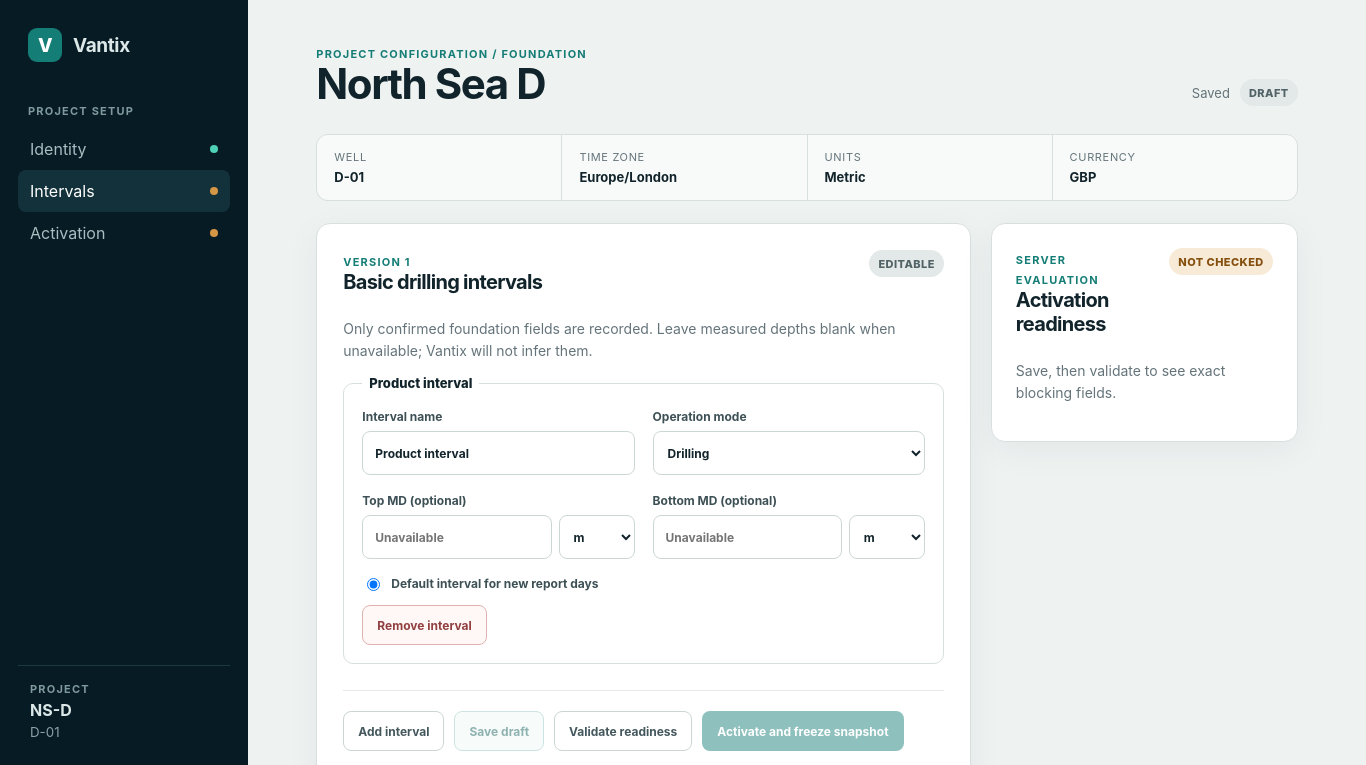
it: project configuration workspace › VTX-PRO-001 clears readiness and blocks activation for an unsaved product edit
The image size is (1366, 765).
Click the button "Validate readiness" at (623, 732), box [554,712,692,752]
(page scrolled)
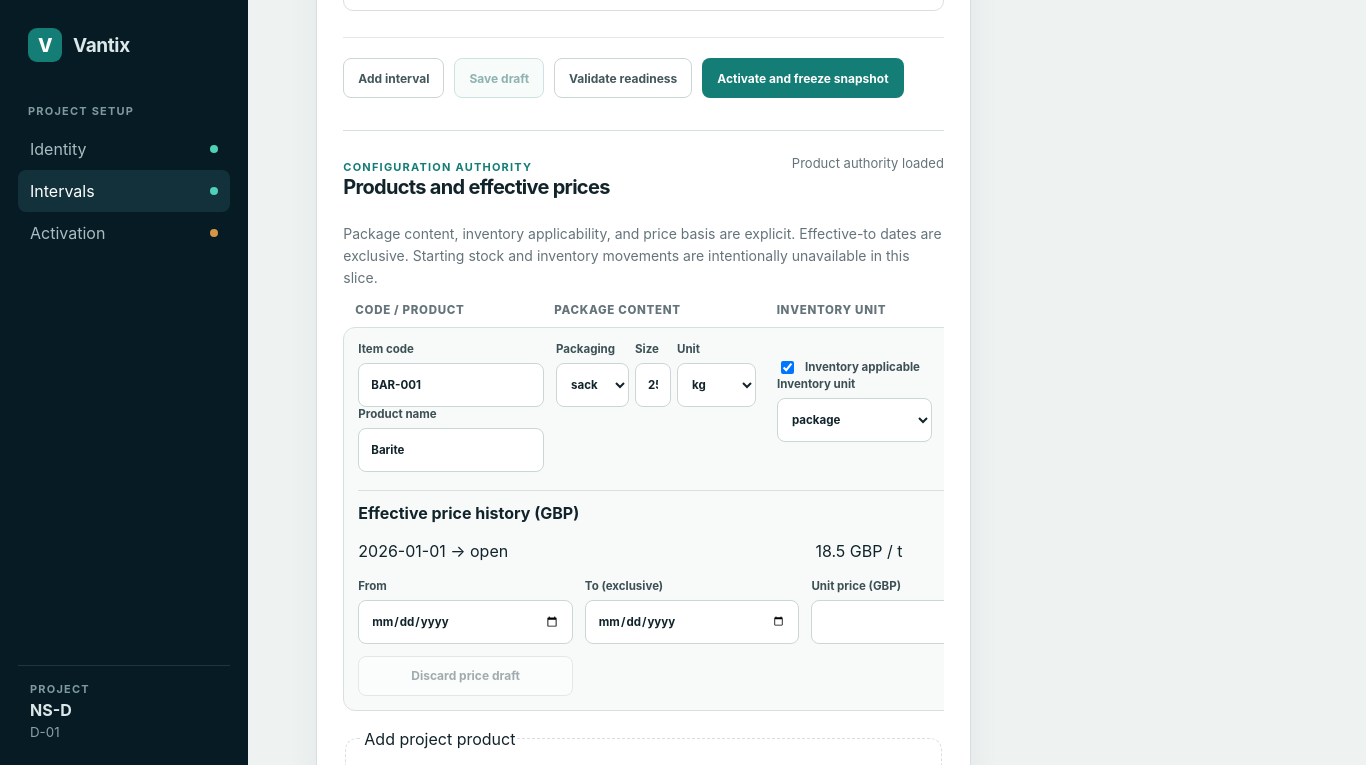
Check: the button "Activate and freeze snapshot" is enabled, box [702,58,904,98]
Replace the text in the field labelled "Size" with "50" at (653, 384), box [635,362,671,406]
(page scrolled)
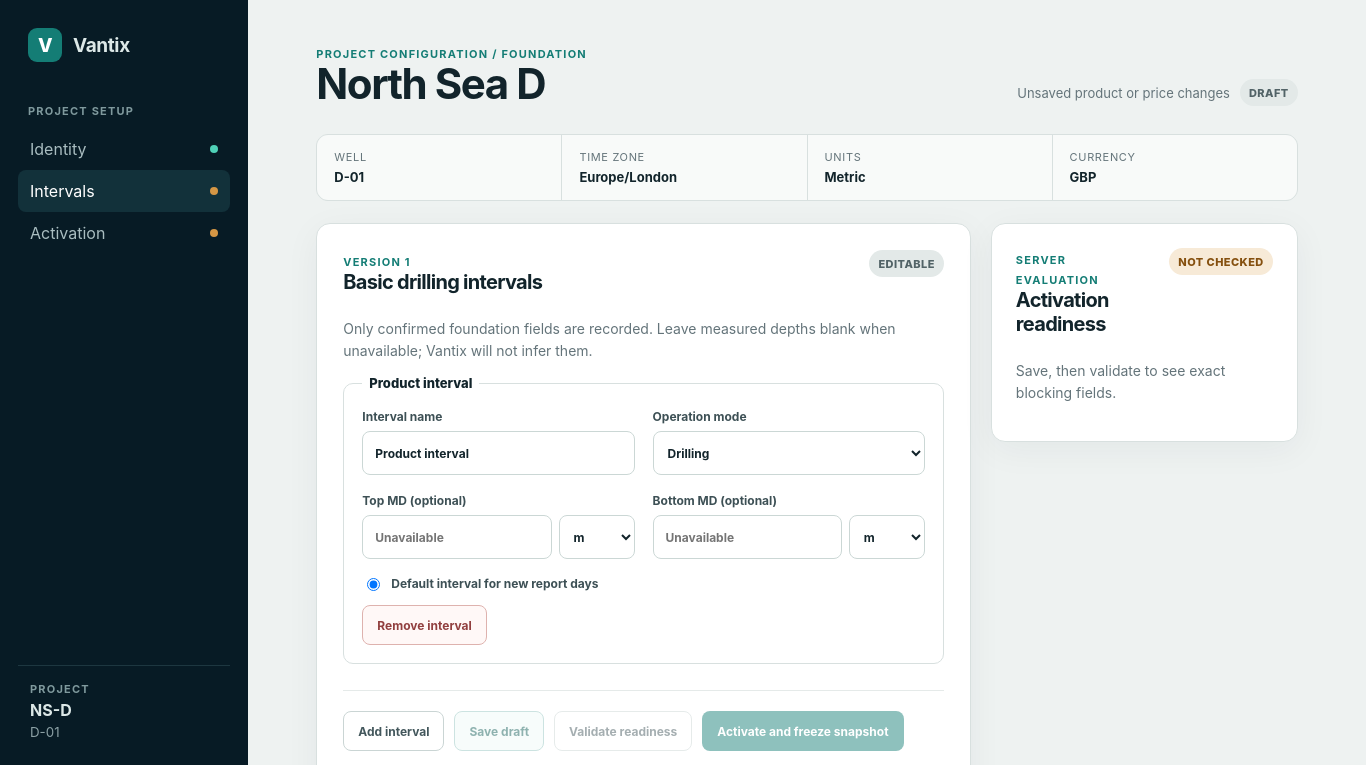
Check: the button "Activate and freeze snapshot" is disabled, box [702,712,904,752]
Check: the button "Validate readiness" is disabled, box [554,712,692,752]
Check: the text "Unsaved product or price changes" is shown, box [1017,85,1230,101]
